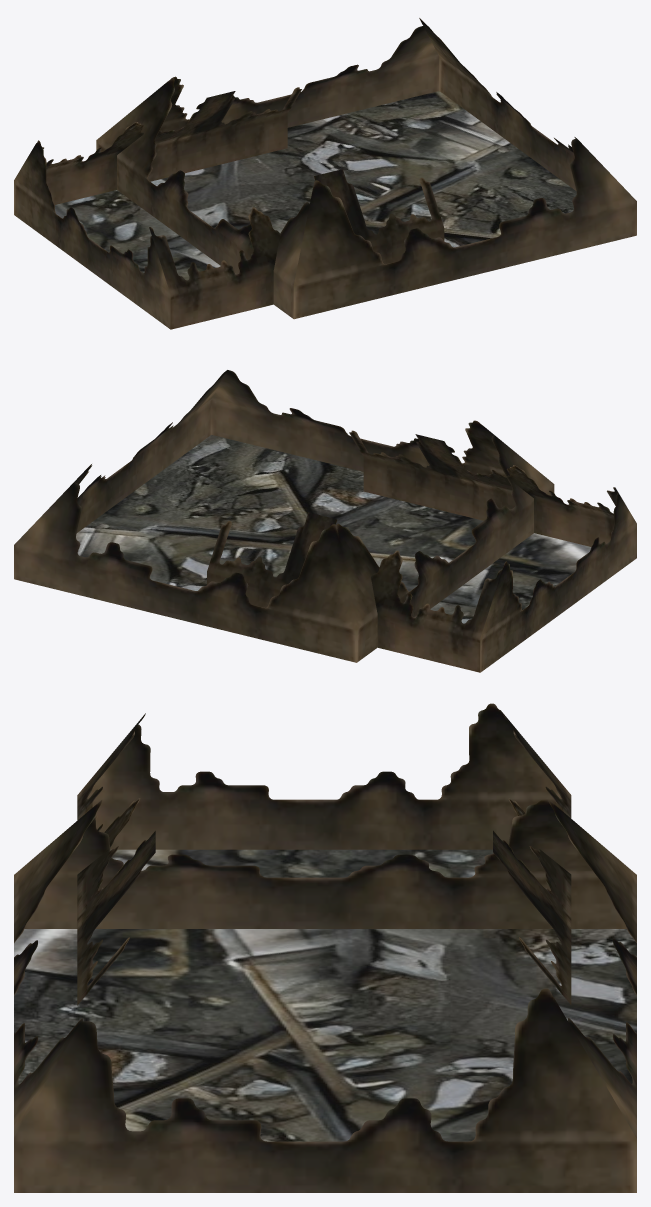
File: hpg_end_dam_hdtex.glb
3 views of the same model, one above another, from view 1: azimuth 30°, elevation 25°; view 2: azimuth 150°, elevation 25°; view 3: azimuth 270°, elevation 25° (orthographic). The views are drawn at different scales.
Parts seen in each view (by area): view 1: EndDam; view 2: EndDam; view 3: EndDam.
Boxes of the visible parts, left/top/right/bottom form: EndDam: left=14, top=18, right=636, bottom=329; EndDam: left=14, top=370, right=636, bottom=672; EndDam: left=14, top=703, right=636, bottom=1192.
Bounding box in the file's own units: 20.89 × 4.99 × 16.03.
2 materials, 2 textured.
